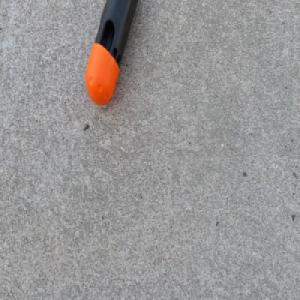PlasticPart: (85, 0, 139, 106)
